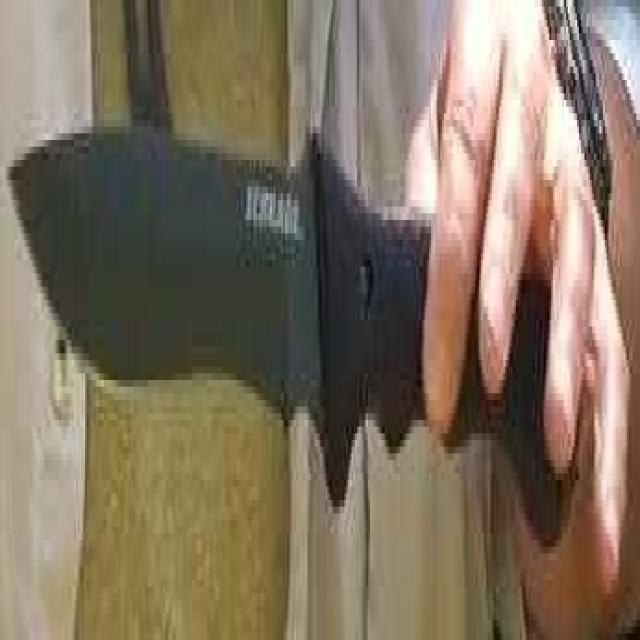Knife: (5, 131, 586, 547)
